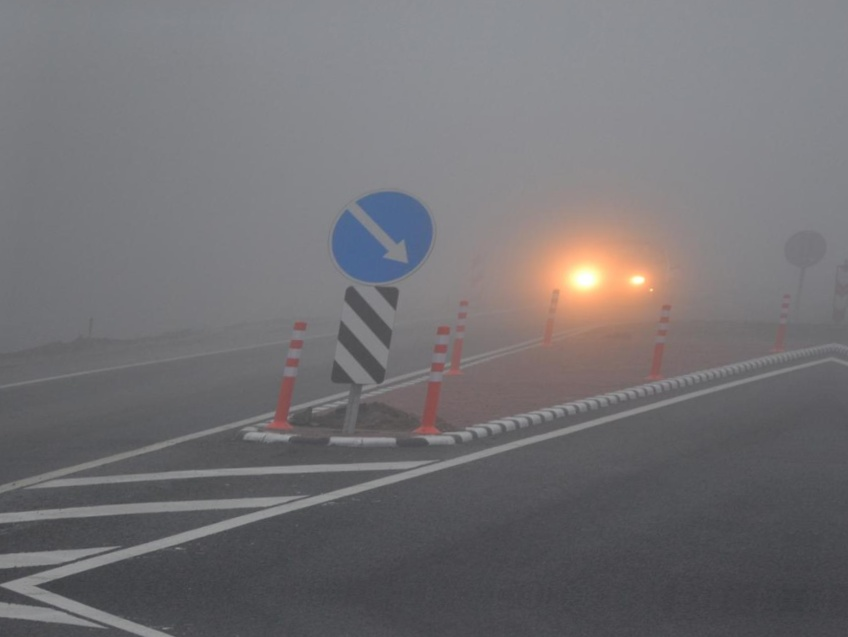Keep right: (325, 191, 439, 284)
